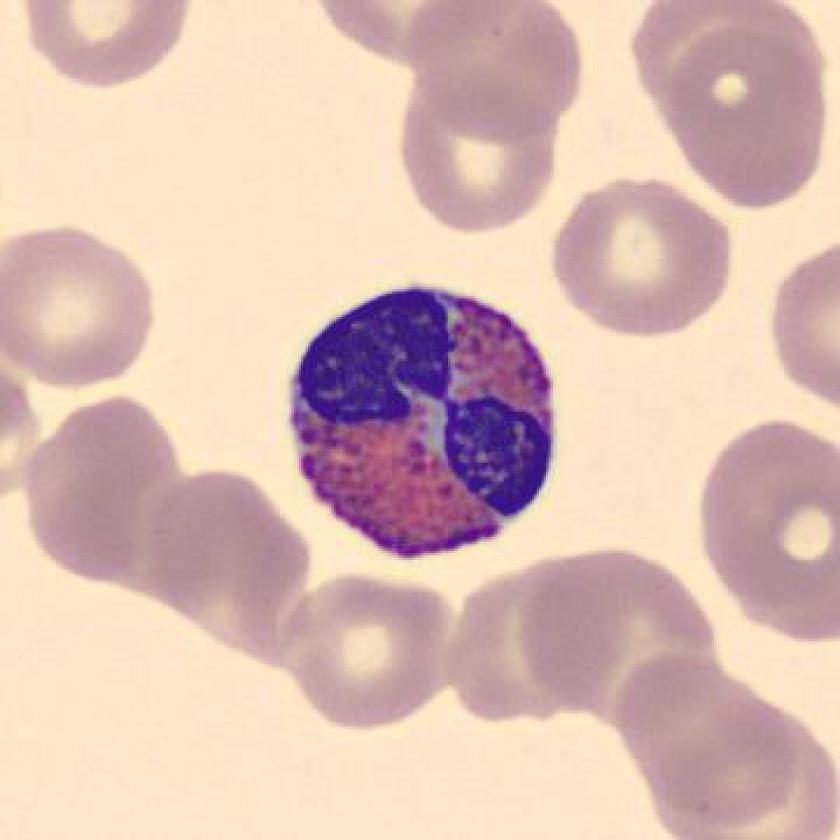eosinophil: (279, 277, 573, 571)
